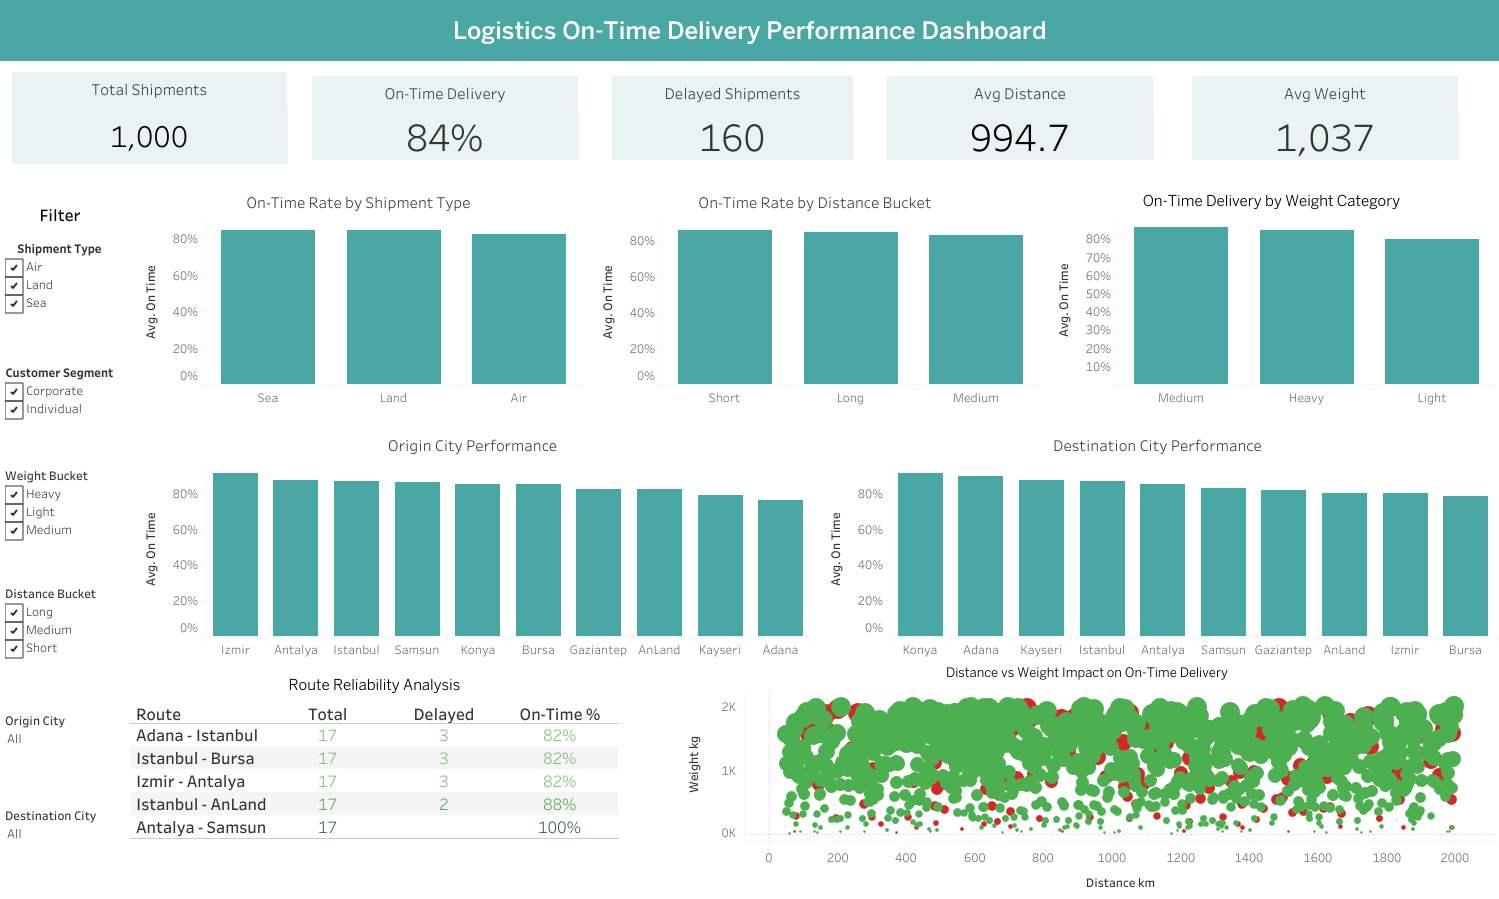

The dashboard page shown, as its layout file describes it:
{"tool":"tableau","page":{"name":"Dashboard","canvas":[1500,900],"ordinal":0},"visuals":[{"type":"text","box":[0,0,1500,60.7]},{"type":"worksheet","title":"Total Shipments","mark":"Automatic","box":[12.5,72,275,91.1]},{"type":"worksheet","title":"On-Time Delivery Rate","mark":"Automatic","box":[307.5,72,275,91.1]},{"type":"worksheet","title":"Delayed Shipments","mark":"Automatic","box":[607.5,72,250,91.1]},{"type":"worksheet","title":"Avg Distance","mark":"Automatic","box":[882.5,72,275,91.1]},{"type":"worksheet","title":"Avg Weight","mark":"Automatic","box":[1187.5,72,275,91.1]},{"type":"worksheet","title":"On-Time Rate by Shipment Type","mark":"Automatic","rows":["On_Time"],"cols":["Shipment_Type"],"box":[130,181,456.6,229]},{"type":"worksheet","title":"On-Time Rate by Distance Bucket","mark":"Automatic","rows":["On_Time"],"cols":["Distance_Bucket"],"box":[586.6,181,456.6,229]},{"type":"worksheet","title":"On-Time Rate by Weight Bucket","mark":"Automatic","rows":["On_Time"],"cols":["Weight_Bucket"],"box":[1043.3,181,456.6,229]},{"type":"text","box":[3,199,114,30]},{"type":"filter","title":"Destination City Performance","param":"[federated.0lu0o5y0g6czi219d5q130wadzm8].[none:Shipment_Type:nk]","box":[5,238,109,108]},{"type":"filter","title":"On-Time Rate by Distance Bucket","param":"[federated.0lu0o5y0g6czi219d5q130wadzm8].[none:Customer_Segment:nk]","box":[5,362,109,89]},{"type":"worksheet","title":"Origin City Performance","mark":"Automatic","rows":["On_Time"],"cols":["Origin_City"],"box":[130,424,684.9,238]},{"type":"worksheet","title":"Destination City Performance","mark":"Automatic","rows":["On_Time"],"cols":["Destination_City"],"box":[814.9,424,684.9,238]},{"type":"filter","title":"On-Time Rate by Shipment Type","param":"[federated.0lu0o5y0g6czi219d5q130wadzm8].[none:Weight_Bucket:nk]","box":[5,465,109,103]},{"type":"filter","title":"On-Time Rate by Shipment Type","param":"[federated.0lu0o5y0g6czi219d5q130wadzm8].[none:Distance_Bucket:nk]","box":[5,583,109,108]},{"type":"worksheet","title":"Scatter Plot","mark":"Circle","rows":["Weight_kg"],"cols":["Distance_km"],"box":[677,658,820,240]},{"type":"worksheet","title":"Route Reliability","mark":"Automatic","rows":["Route"],"box":[130,669,747,231]},{"type":"filter","title":"On-Time Rate by Distance Bucket","param":"[federated.0lu0o5y0g6czi219d5q130wadzm8].[none:Origin_City:nk]","box":[5,710,109,75]},{"type":"filter","title":"On-Time Rate by Shipment Type","param":"[federated.0lu0o5y0g6czi219d5q130wadzm8].[none:Destination_City:nk]","box":[5,805,109,74]}]}

Visuals, with their boxes in screenshot pixels (x1, y1, x2, y2), scaled from the page's 1500x900 canvas onto the 1499x899 screenshot:
text: [0,0,1498,61]
"Total Shipments" worksheet: [12,72,287,163]
"On-Time Delivery Rate" worksheet: [307,72,582,163]
"Delayed Shipments" worksheet: [607,72,857,163]
"Avg Distance" worksheet: [882,72,1157,163]
"Avg Weight" worksheet: [1187,72,1462,163]
"On-Time Rate by Shipment Type" worksheet: [130,181,586,410]
"On-Time Rate by Distance Bucket" worksheet: [586,181,1043,410]
"On-Time Rate by Weight Bucket" worksheet: [1043,181,1498,410]
text: [3,199,117,229]
"Destination City Performance" filter: [5,238,114,346]
"On-Time Rate by Distance Bucket" filter: [5,362,114,450]
"Origin City Performance" worksheet: [130,424,814,661]
"Destination City Performance" worksheet: [814,424,1498,661]
"On-Time Rate by Shipment Type" filter: [5,464,114,567]
"On-Time Rate by Shipment Type" filter: [5,582,114,690]
"Scatter Plot" worksheet (Circle marks): [677,657,1496,897]
"Route Reliability" worksheet: [130,668,876,898]
"On-Time Rate by Distance Bucket" filter: [5,709,114,784]
"On-Time Rate by Shipment Type" filter: [5,804,114,878]
